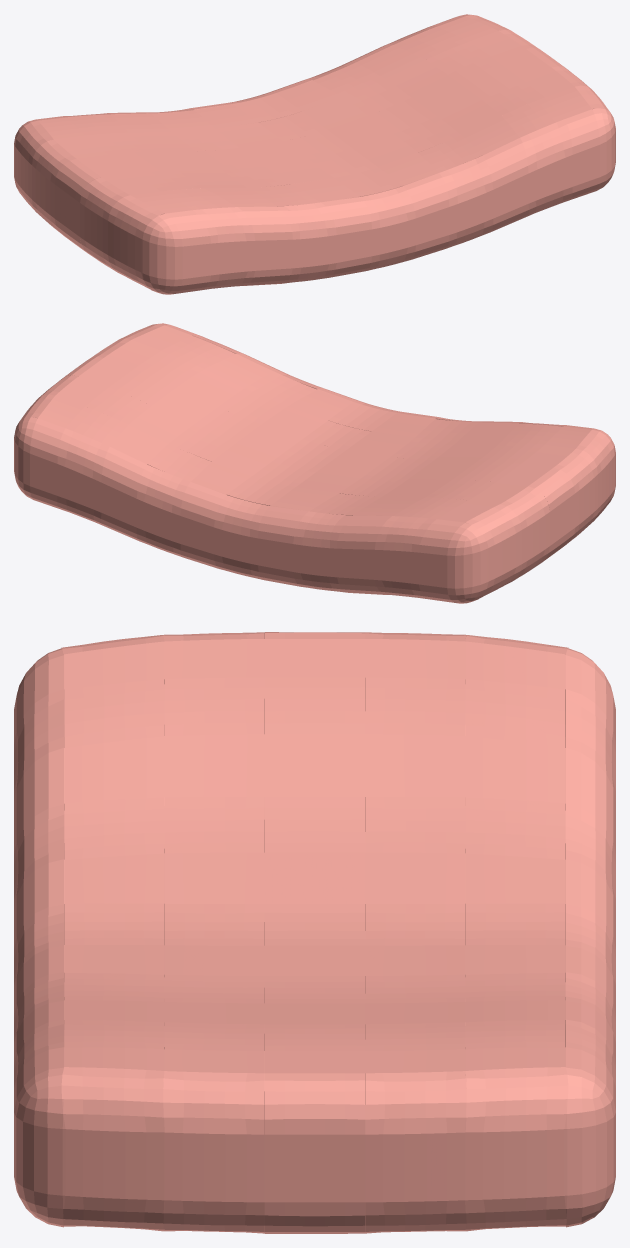
The model's file is SoapV1.fbx.
3 views of the same model, one above another, from view 1: azimuth 30°, elevation 25°; view 2: azimuth 150°, elevation 25°; view 3: azimuth 270°, elevation 25° (orthographic). The views are drawn at different scales.
Parts seen in each view (by area): view 1: Cube; view 2: Cube; view 3: Cube.
Part boxes in pixels (bbox=[...]): Cube: bbox=[14, 14, 615, 294]; Cube: bbox=[14, 323, 615, 603]; Cube: bbox=[14, 632, 615, 1233].
Bounding box in the file's own units: 112 × 210 × 43.39.
